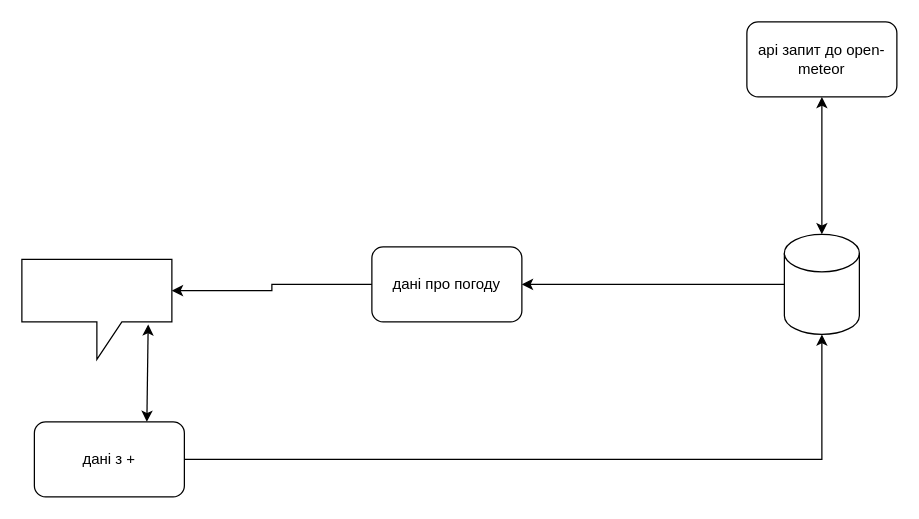
Image size: 919x519. Some labels were removed from this diagram. The shapes that lost their labels are listed below. From the top down, each one's box as (x1, y1, x2, y2) in pixels, then its label:
(783, 233, 859, 334): backend
(21, 258, 172, 359): front-end
